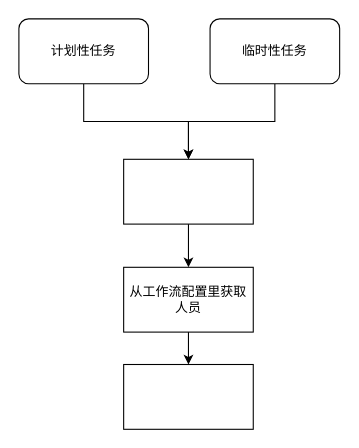
Image size: 359x448. Some labels were removed from this diagram. Each missing label, with the centre of its shape:
开启巡检工作流: point (188, 396)
获取任务基本数据: point (188, 191)
